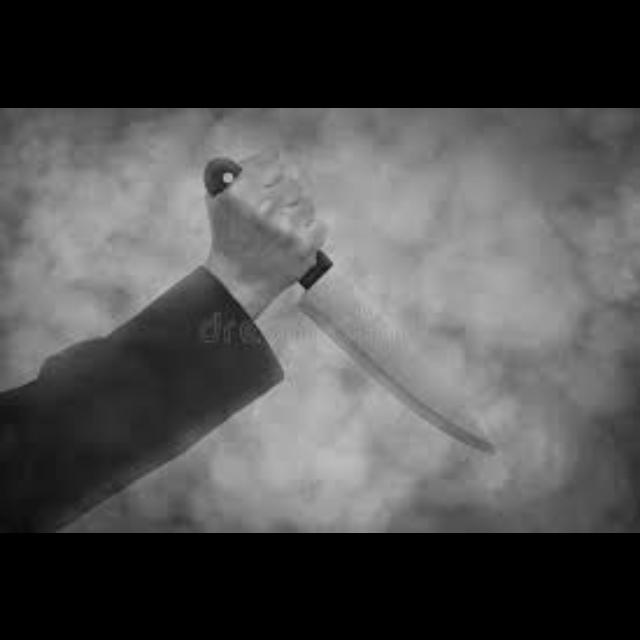knife: (9, 155, 350, 533), (293, 246, 495, 454), (212, 168, 328, 290)
